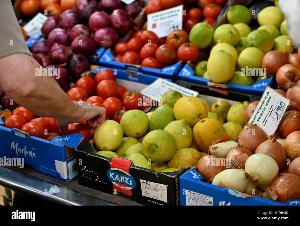lemon: (100, 94, 246, 178), (194, 1, 290, 79)
onion: (218, 92, 300, 198), (30, 1, 130, 72)
tomato: (2, 70, 140, 140), (115, 28, 192, 66), (137, 0, 227, 28)
